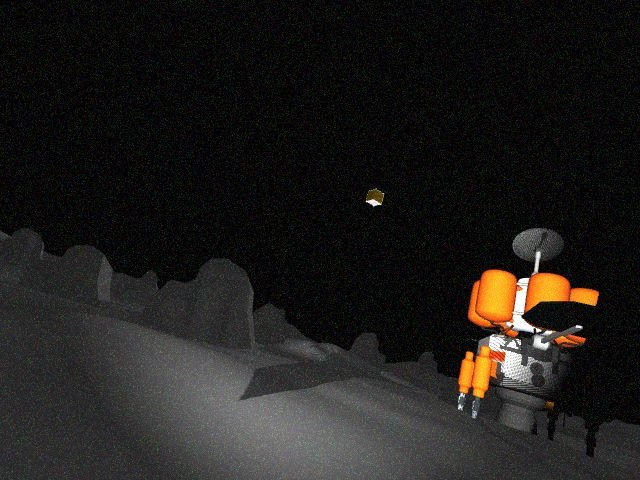cubesat: (364, 187, 385, 208)
